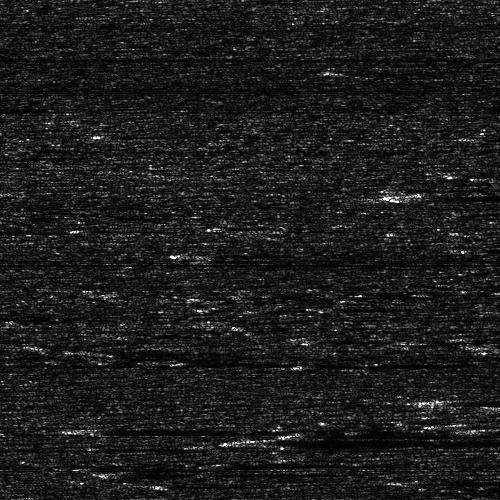object: (161, 456, 286, 469), (345, 189, 460, 202), (268, 427, 331, 440), (214, 433, 277, 446), (356, 477, 439, 484), (160, 250, 233, 257), (430, 420, 483, 427), (447, 427, 500, 434), (323, 65, 364, 74), (0, 151, 32, 162), (51, 426, 114, 431), (404, 397, 467, 402), (89, 468, 130, 475)
shadow: (246, 433, 481, 446), (300, 427, 500, 440), (223, 456, 403, 469), (82, 426, 500, 431), (403, 189, 500, 202), (0, 151, 98, 162), (344, 65, 461, 74), (196, 250, 311, 257), (398, 477, 500, 484), (110, 468, 167, 475), (0, 104, 46, 111), (436, 397, 500, 402), (456, 420, 500, 427), (474, 427, 500, 434)
